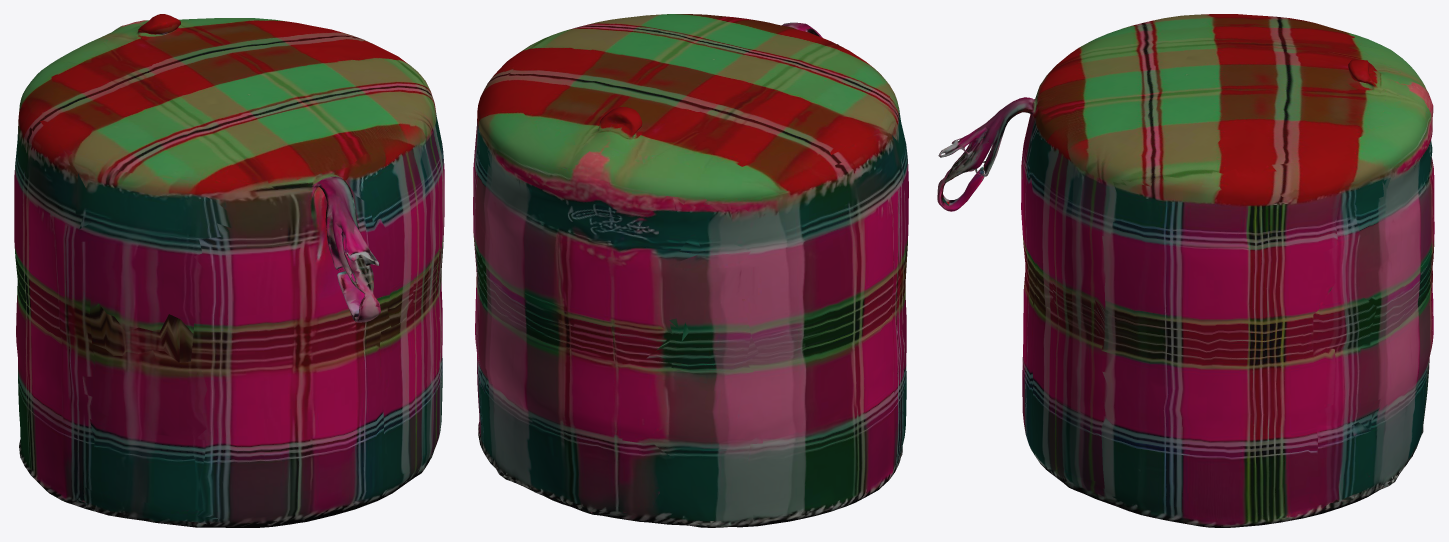
Rendered from dundun3.glb.
3 renders of one model, left to right at view 1: azimuth 30°, elevation 25°; view 2: azimuth 150°, elevation 25°; view 3: azimuth 270°, elevation 25°, orthographic. The views are drawn at different scales.
Visible parts, largest first — view 1: tripo_node_f5a95bc8; view 2: tripo_node_f5a95bc8; view 3: tripo_node_f5a95bc8.
Part boxes in pixels (bbox=[...]): tripo_node_f5a95bc8: bbox=[14, 14, 444, 527]; tripo_node_f5a95bc8: bbox=[473, 14, 908, 527]; tripo_node_f5a95bc8: bbox=[937, 14, 1434, 527].
Size of the model in its own units: 0.8645 by 0.8426 by 0.9987.
Materials: 1 (1 with a texture image).
